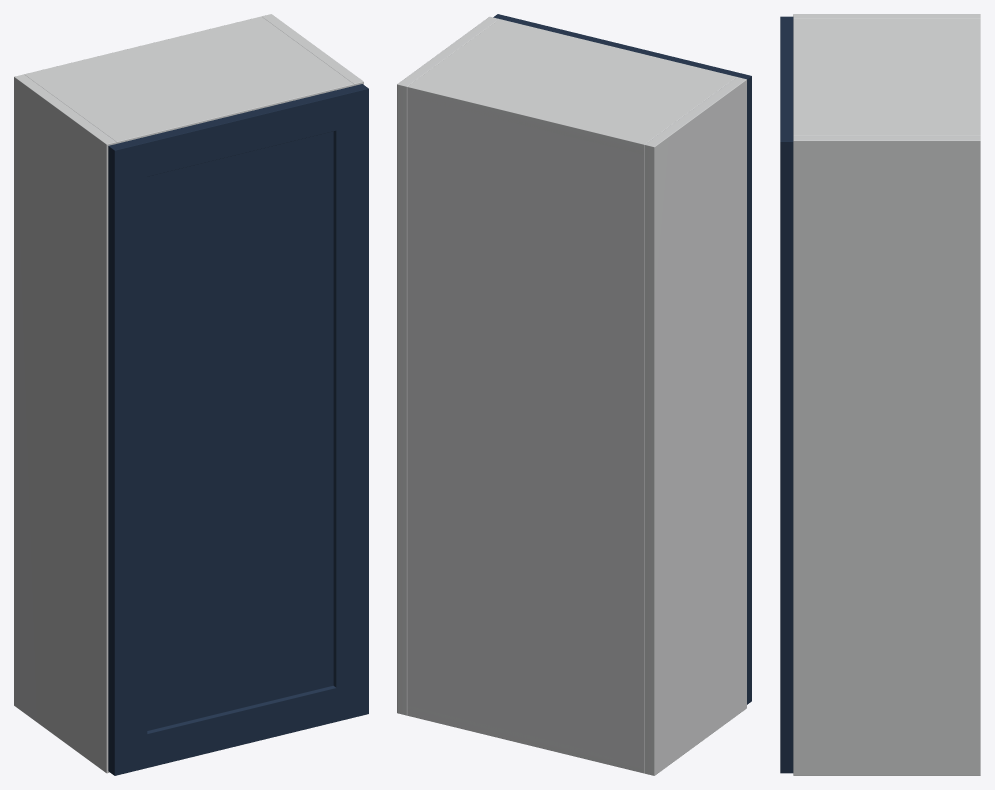
Rendered from oppein-pb-bss-w1842.glb.
3 views of the same model, side by side, from view 1: azimuth 30°, elevation 25°; view 2: azimuth 150°, elevation 25°; view 3: azimuth 270°, elevation 25° (orthographic).
Parts seen in each view (by area): view 1: Door, Cabinet side, Cabinet top, Cabinet side.001; view 2: Cabinet back, Cabinet side, Cabinet top, Cabinet side.001, Door, Cabinet bottom; view 3: Cabinet side.001, Cabinet top, Door, Cabinet side.
Part boxes in pixels (box(x1,y1,x2,y2)): Door: box(108, 84, 368, 775); Cabinet side: box(14, 74, 116, 773); Cabinet top: box(24, 16, 353, 143); Cabinet side.001: box(262, 14, 363, 85); Cabinet back: box(407, 87, 644, 771); Cabinet side: box(644, 77, 746, 775); Cabinet top: box(407, 19, 736, 154); Cabinet side.001: box(397, 16, 499, 715); Door: box(493, 14, 751, 704); Cabinet bottom: box(407, 706, 644, 773); Cabinet side.001: box(793, 136, 980, 775); Cabinet top: box(793, 19, 980, 135); Door: box(780, 16, 793, 773); Cabinet side: box(793, 14, 980, 18).
Size of the model in its own units: 0.4572 by 1.07 by 0.3048.
